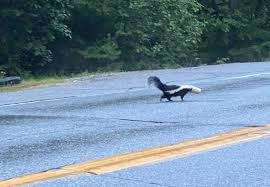skunk: (147, 75, 201, 105)
